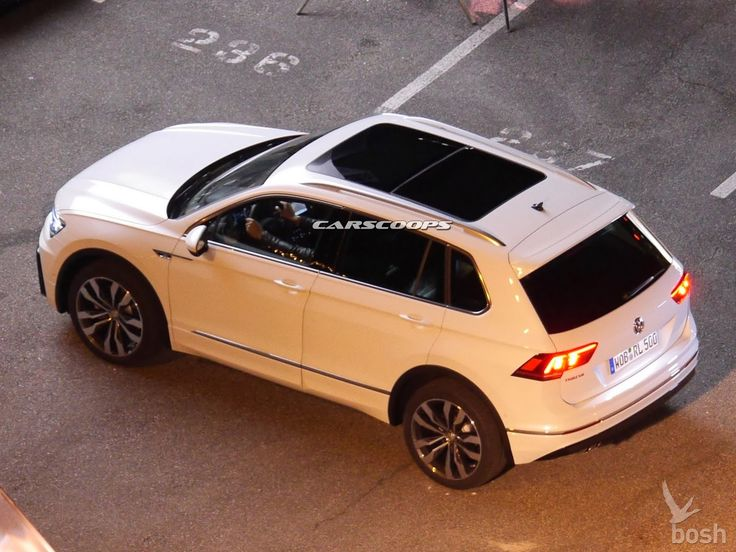car: (35, 110, 705, 491)
